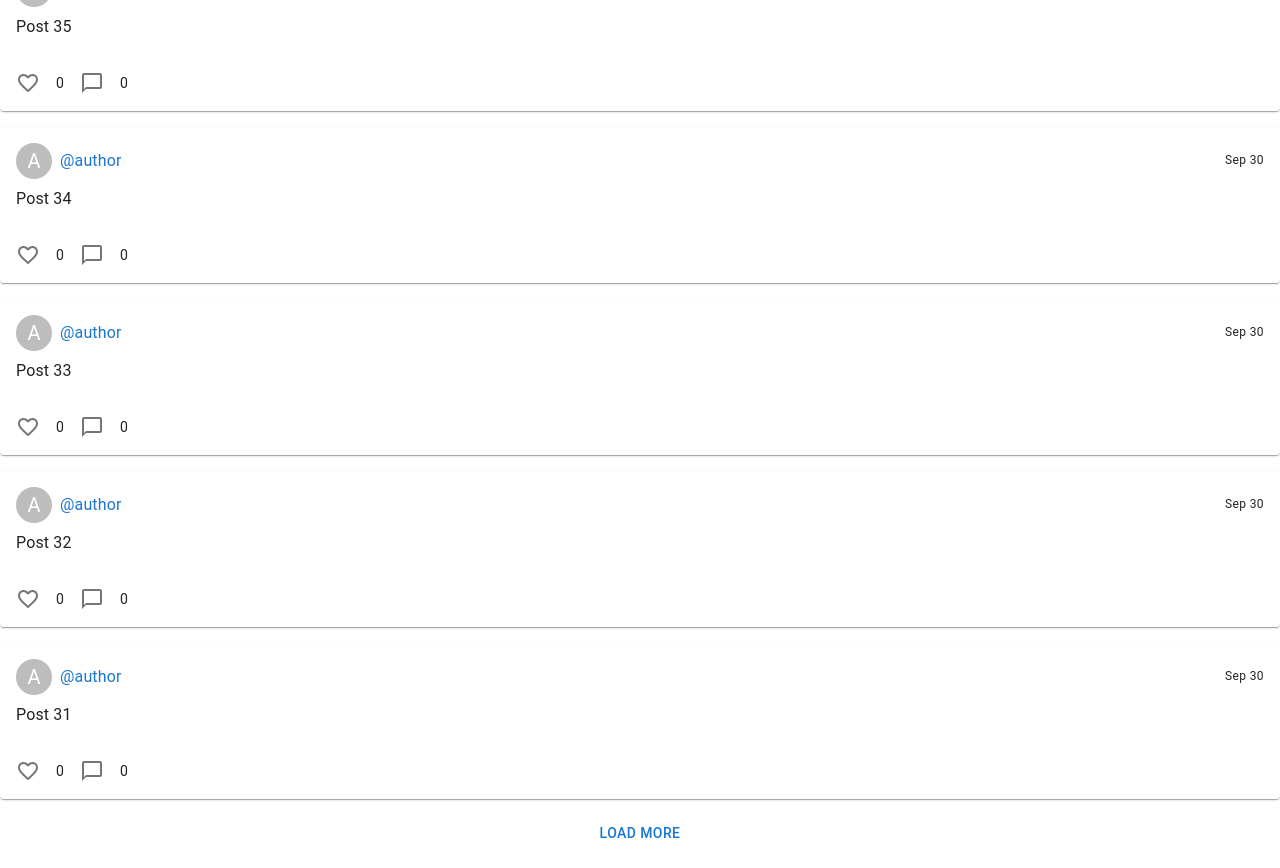
Feed › does not show the same post twice if a page overlaps
(page scrolled)
Expected: the text "Post 31" is shown, [16, 705, 72, 724]
Click the button "Load more" at (640, 833), box [592, 815, 688, 852]
(page scrolled)
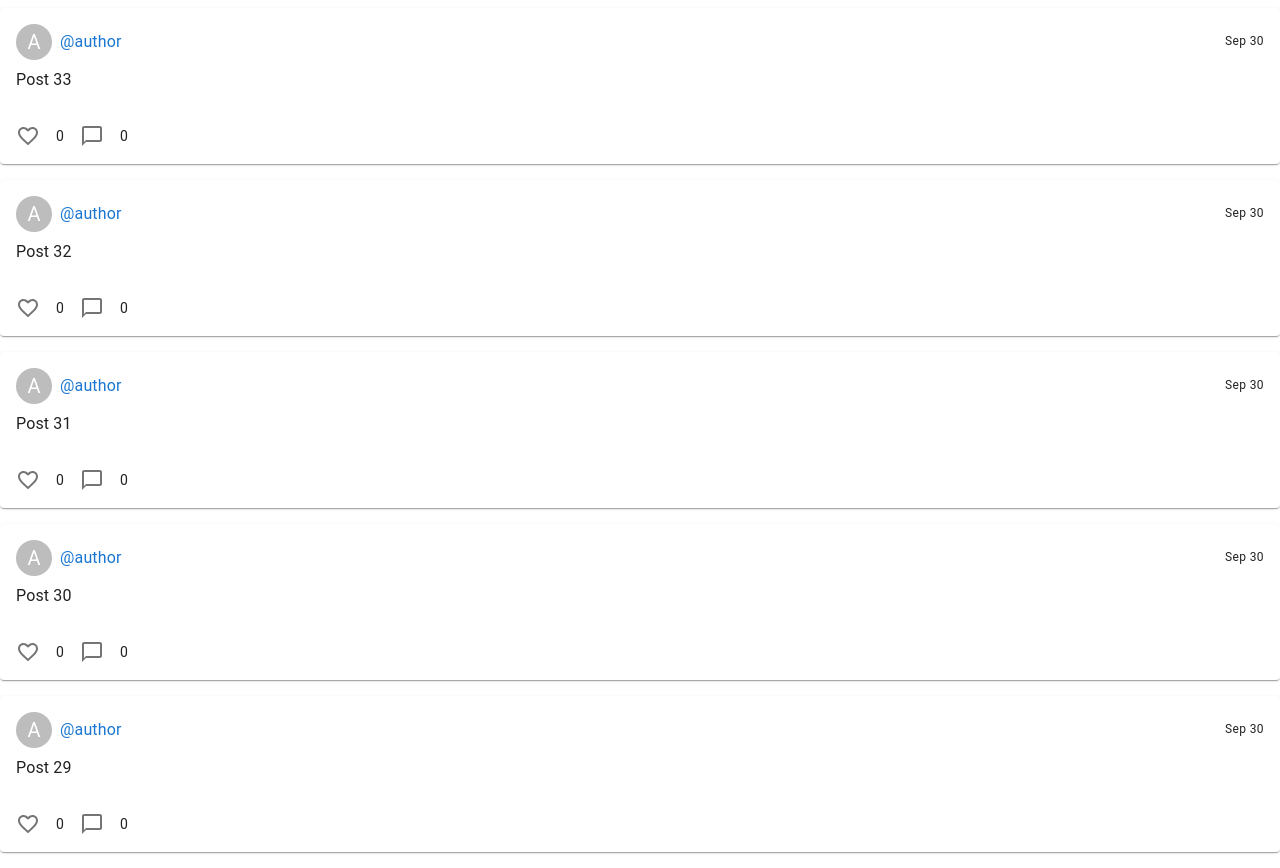
Result: the text "Post 29" is shown at [16, 758, 72, 777]
Result: the text "Post 31" is shown once at [16, 414, 72, 433]
